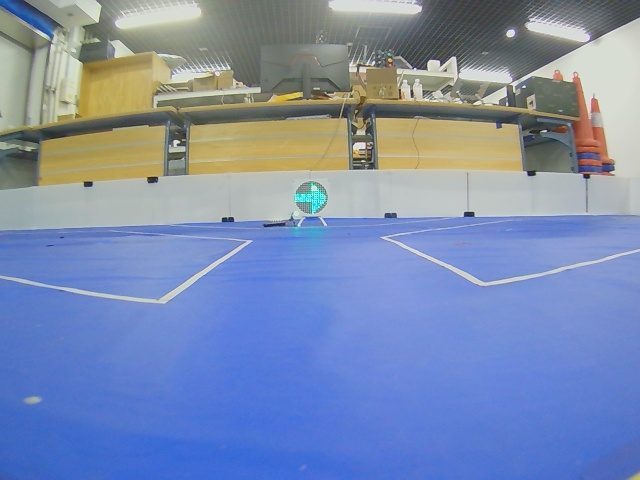right_green: (294, 181, 328, 215)
